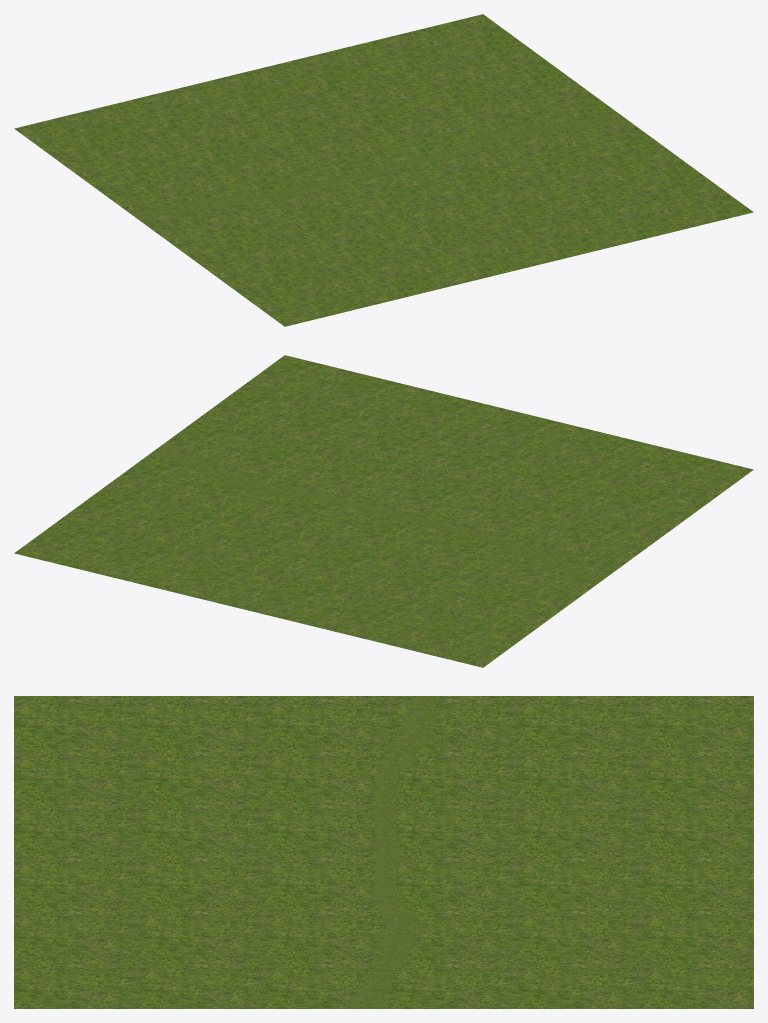
File: ground.fbx
The picture shows the model from 3 angles, top to bottom: view 1: azimuth 30°, elevation 25°; view 2: azimuth 150°, elevation 25°; view 3: azimuth 270°, elevation 25°; orthographic projection. The views are drawn at different scales.
Parts seen in each view (by area): view 1: 地面2, 地面2（道路）; view 2: 地面2, 地面2（道路）; view 3: 地面2, 地面2（道路）.
Part boxes in pixels (box(x1,y1,x2,y2)): 地面2: box(14, 14, 753, 326); 地面2（道路）: box(130, 114, 632, 219); 地面2: box(14, 355, 753, 667); 地面2（道路）: box(151, 443, 607, 582); 地面2: box(14, 696, 753, 1008); 地面2（道路）: box(344, 696, 435, 1008).
Bounding box in the file's own units: 100 × 2.38e-05 × 100.
